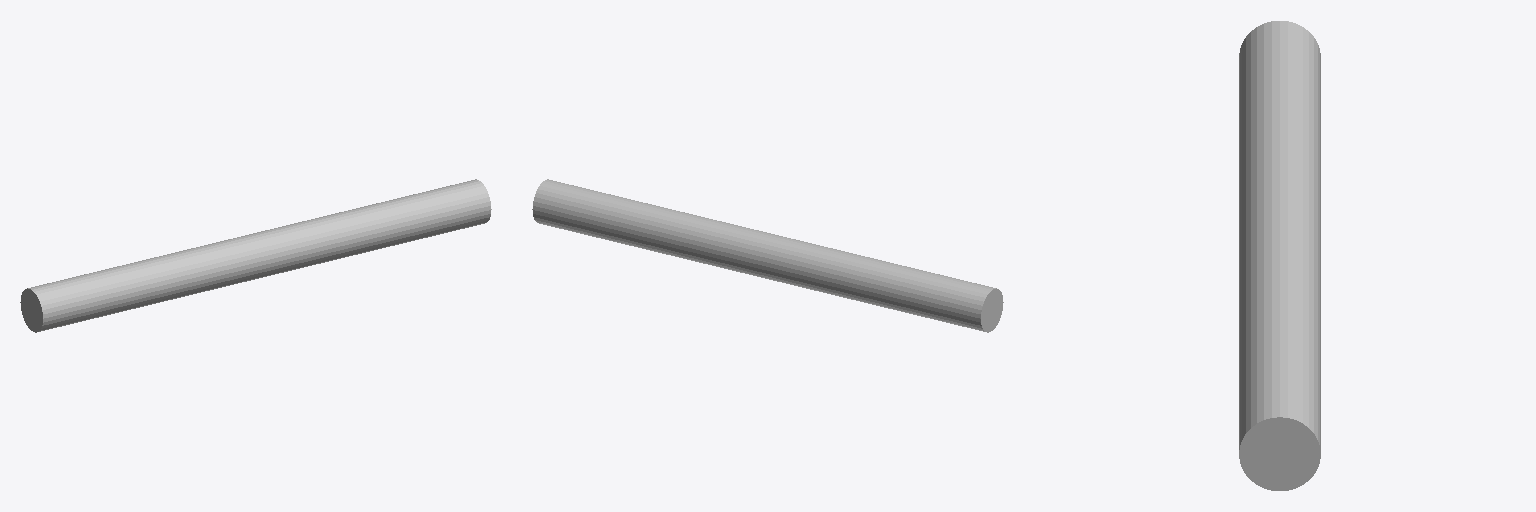
URDF robot description (rod):
<?xml version="1.0" encoding="utf-8"?>
<robot name="rod">
  <link name="rod_Link">
    <inertial>
      <origin xyz="0 0 0" rpy="0 0 0"/>
      <mass value="0.8"/>
      <inertia ixx="0.001" iyy="0.001" izz="0.0005" ixy="0" ixz="0" iyz="0"/>
    </inertial>
    <visual>
      <origin xyz="0 0 0" rpy="0 -1.57 0"/>
      <geometry><cylinder length="0.8" radius="0.035"/></geometry>
      <material name="gray"><color rgba="0.8 0.8 0.8 1"/></material>
    </visual>
    <collision>
      <origin xyz="0 0 0" rpy="0 -1.57 0"/>
      <geometry><cylinder length="0.8" radius="0.035"/></geometry>
    </collision>
  </link>
</robot>

--- Render facts (derived) ---
The picture shows the robot from 3 angles, left to right: view 1: azimuth 30°, elevation 25°; view 2: azimuth 150°, elevation 25°; view 3: azimuth 270°, elevation 25°; orthographic projection.
Model rod with 1 links and 0 joints (none), rooted at rod_Link, posed every joint at zero.
Visible links, largest first — view 1: rod_Link; view 2: rod_Link; view 3: rod_Link.
Boxes of the visible links, left/top/right/bottom form: rod_Link: left=20, top=179, right=491, bottom=332; rod_Link: left=532, top=179, right=1003, bottom=332; rod_Link: left=1239, top=21, right=1320, bottom=490.
Size in the robot's own frame: 0.8001 by 0.07 by 0.0706 metres.
Geometry: primitives only (box / cylinder / sphere), no mesh files.
